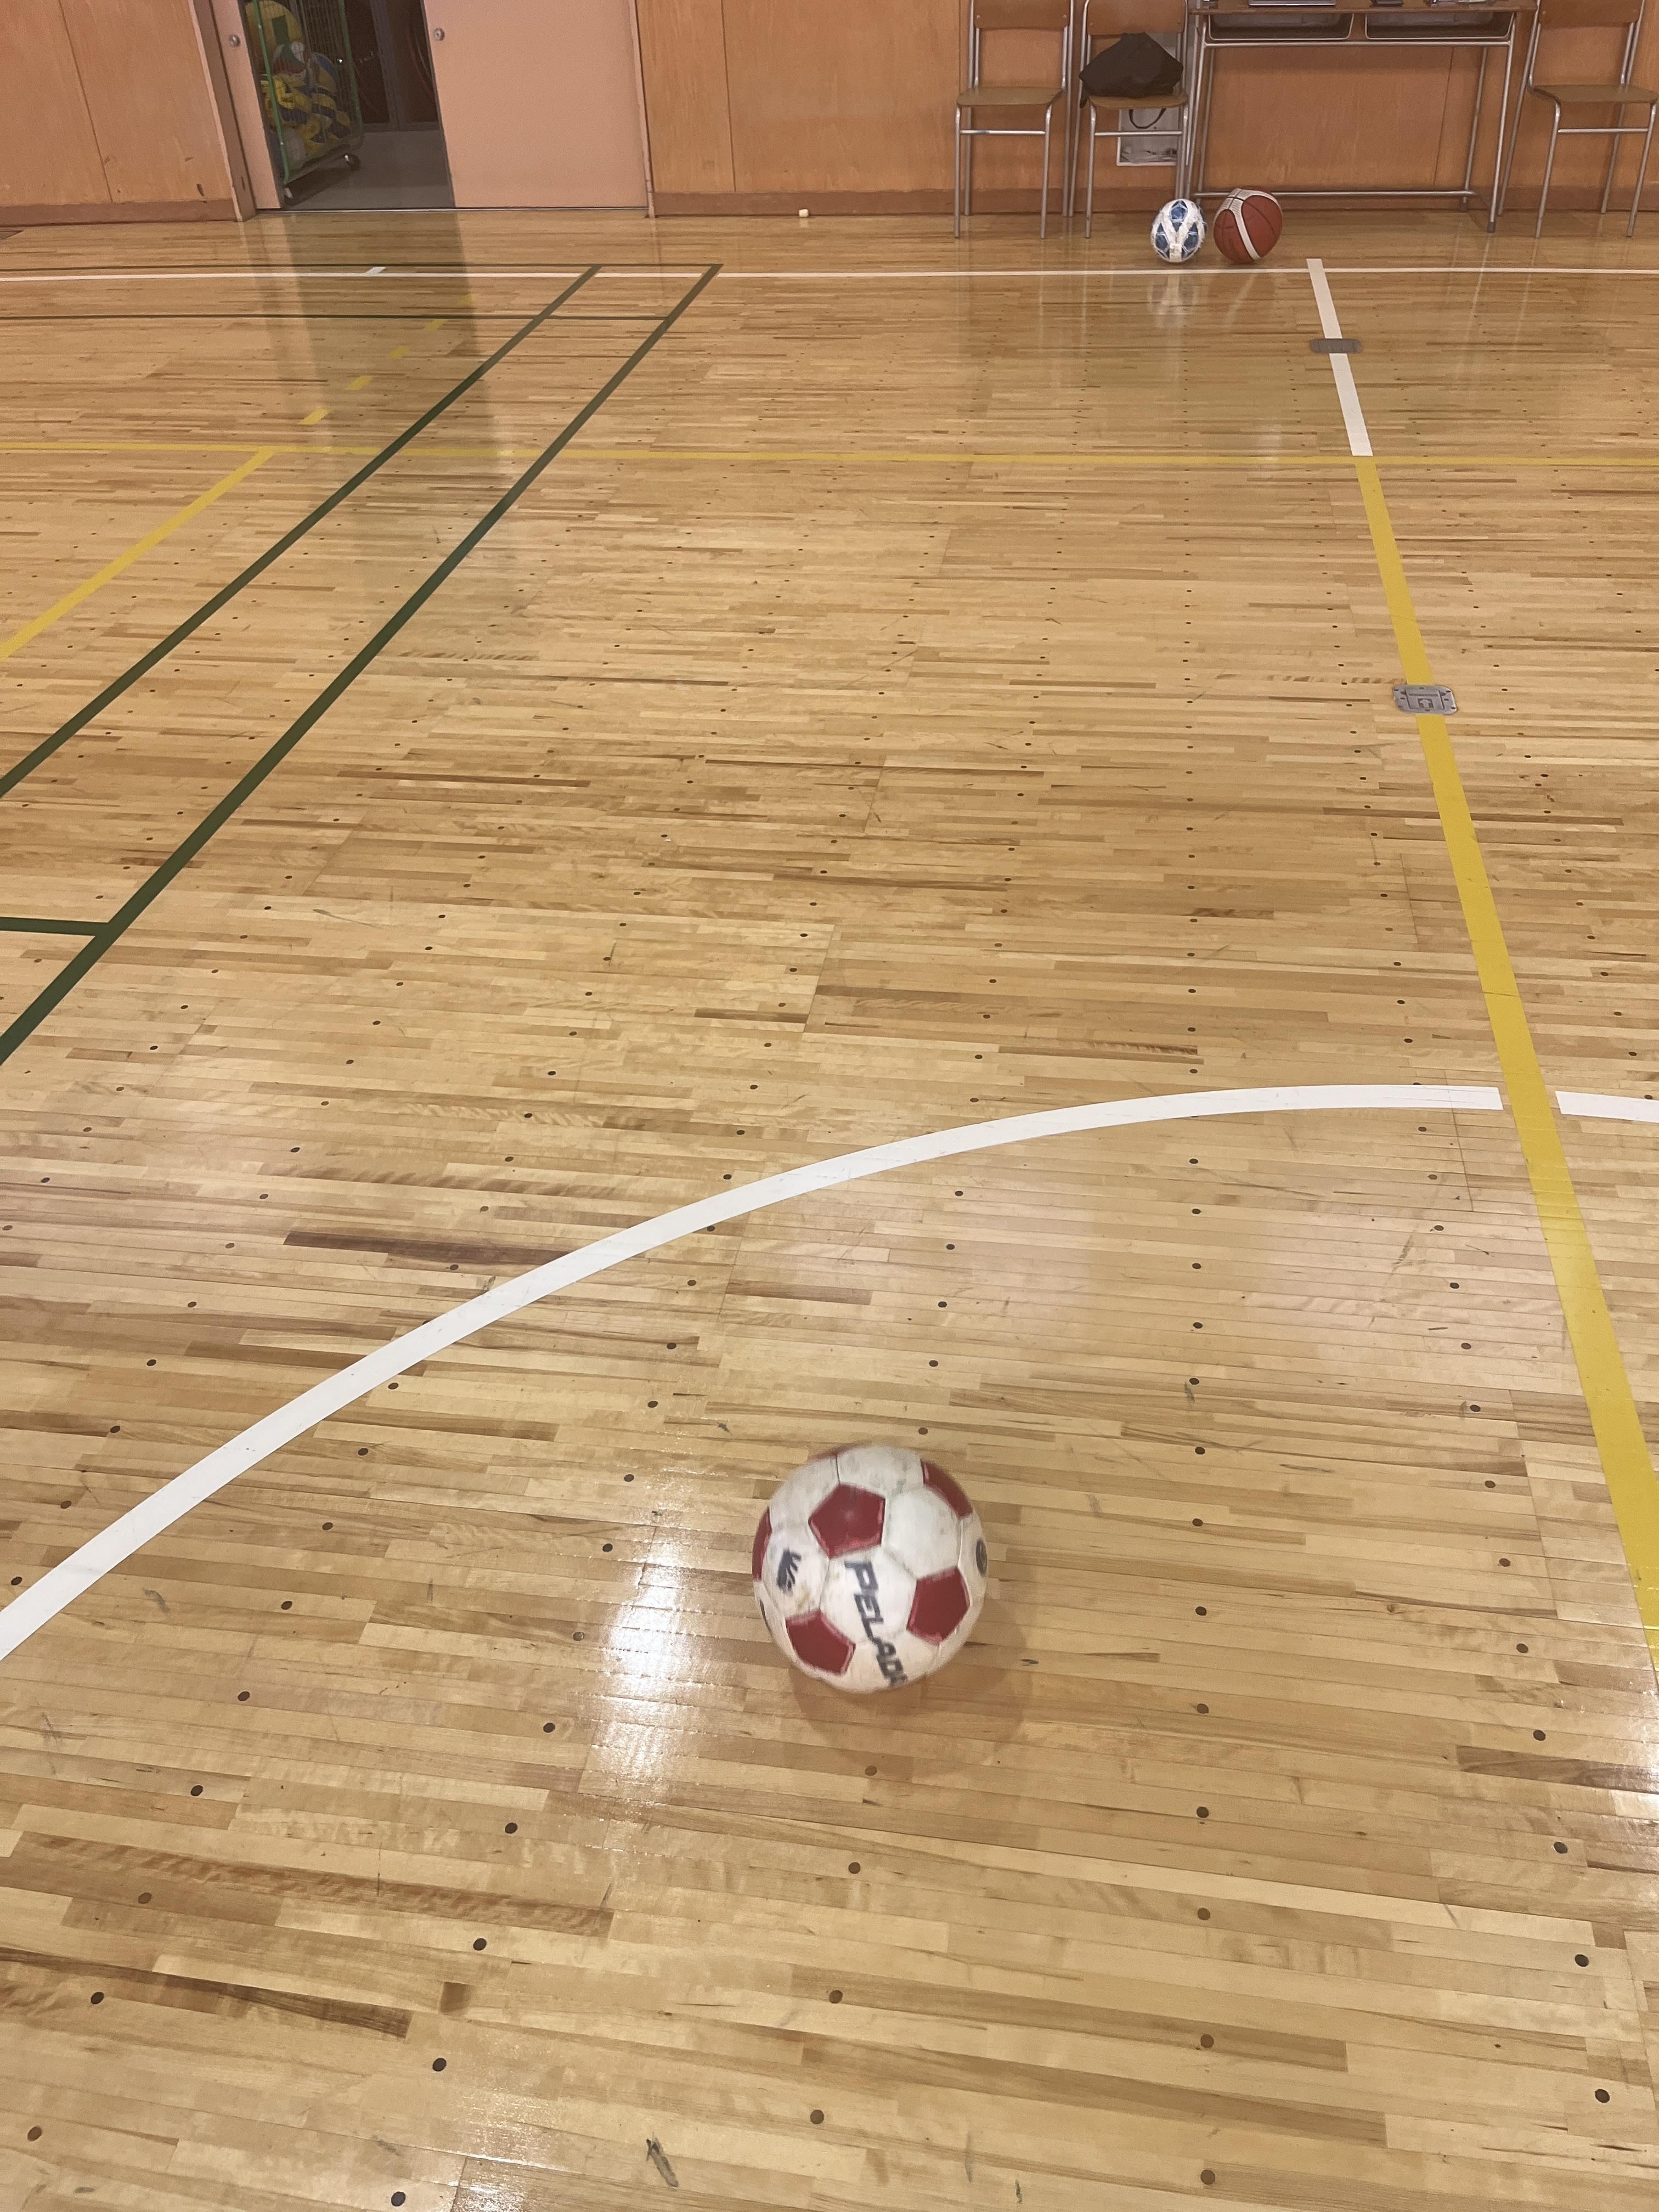Sports-Ball: (755, 1442, 990, 1716)
